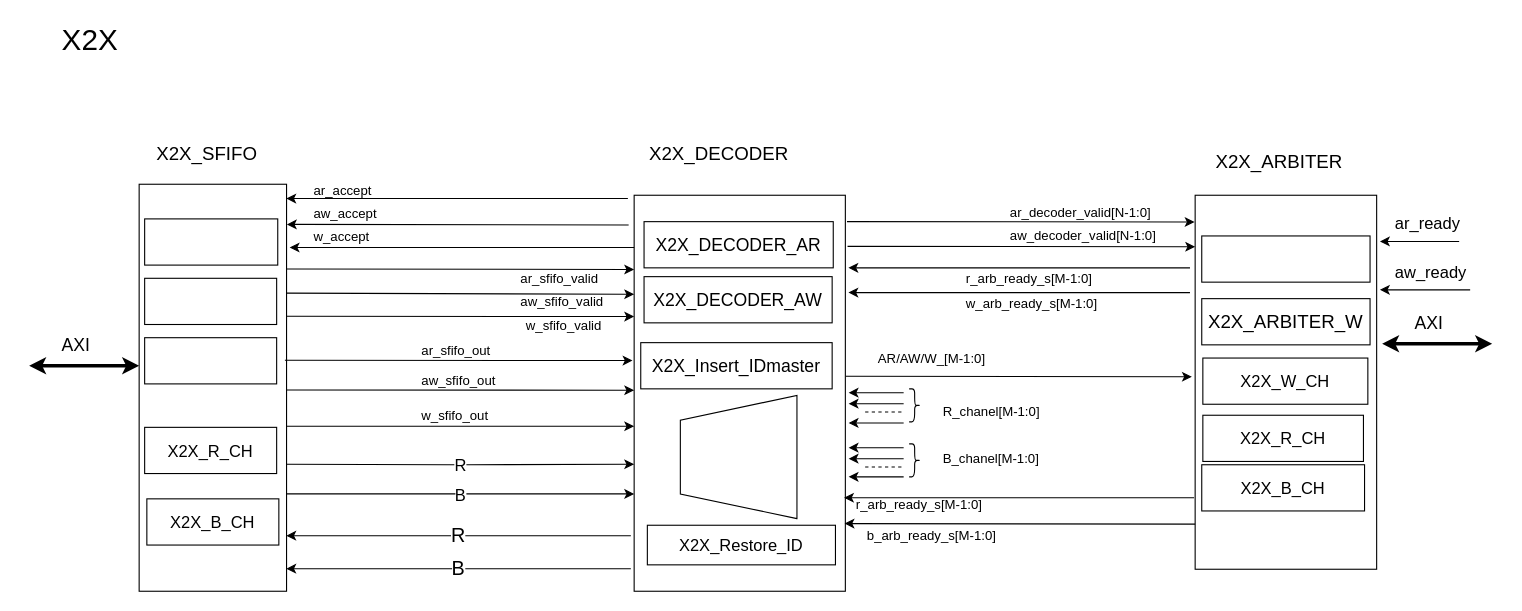
Image size: 1522x611. Some labels were removed from this diagram. Here are the shapes that lost their labels. From the top down, the centre of each, then its label:
At (x=211, y=241): "X2X_SFIFO_AR".
At (x=1285, y=258): "X2X_ARBITER_R".
At (x=210, y=300): "X2X_SFIFO_AW".
At (x=210, y=360): "X2X_SFIFO_W".
At (x=738, y=456): "X2X DECODER SLAVE".
